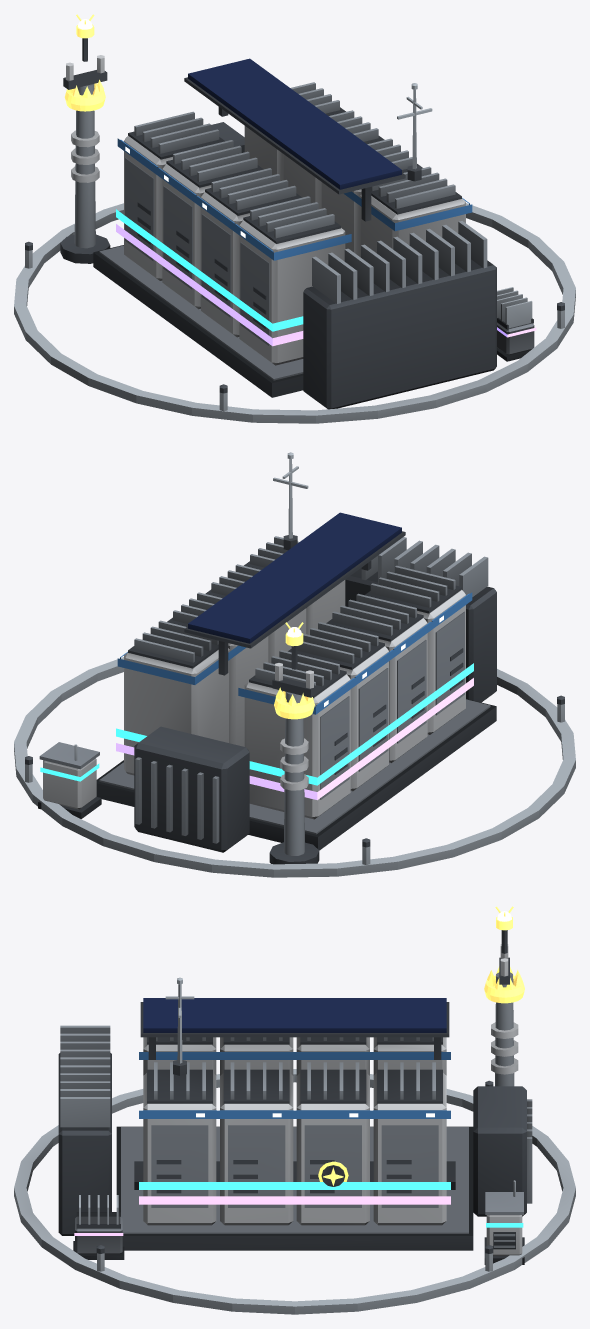
The model's file is battery_xl.glb.
3 views of the same model, one above another, from view 1: azimuth 30°, elevation 25°; view 2: azimuth 150°, elevation 25°; view 3: azimuth 270°, elevation 25° (orthographic).
Parts seen in each view (by area): view 1: Base, L2, L4, L3, L5; view 2: Base, L2, L3, L4, L5; view 3: Base, L2, L4, L3, L5.
Boxes of the visible parts, box(x1,y1,x2,y2) form: Base: box(60, 55, 496, 409); L2: box(14, 83, 575, 423); L4: box(116, 224, 536, 361); L3: box(116, 209, 303, 331); L5: box(64, 14, 105, 111); Base: box(96, 512, 496, 864); L2: box(14, 452, 575, 877); L3: box(38, 663, 473, 818); L4: box(116, 678, 473, 800); L5: box(274, 622, 314, 719); Base: box(58, 944, 532, 1250); L2: box(14, 977, 575, 1314); L4: box(73, 1195, 450, 1259); L3: box(139, 1180, 524, 1264); L5: box(318, 906, 524, 1186).
Bounding box in the file's own units: 6.3 × 3.08 × 6.3.
